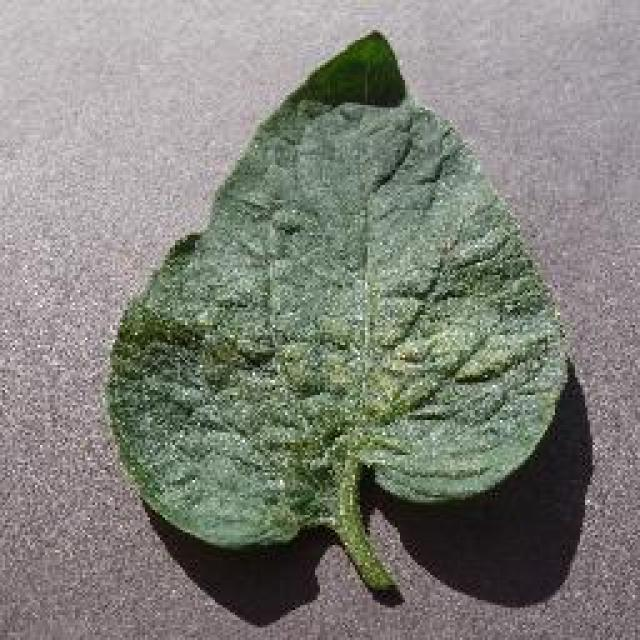Tomato mosaic virus leaf: (102, 25, 572, 555)
